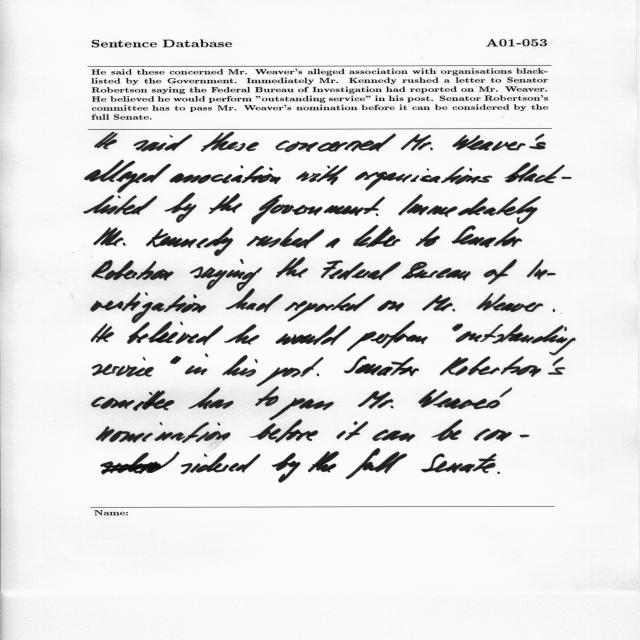word: (398, 194, 541, 224), (251, 195, 385, 225), (456, 324, 576, 356), (269, 391, 391, 421), (91, 292, 206, 323), (355, 166, 492, 191), (378, 388, 513, 410), (85, 160, 171, 193), (96, 422, 231, 443), (284, 293, 375, 322), (440, 356, 565, 377), (146, 227, 233, 256), (347, 321, 428, 351), (190, 259, 262, 291), (127, 321, 223, 345), (275, 134, 396, 153), (169, 165, 281, 184), (249, 257, 308, 292), (257, 357, 324, 387), (346, 449, 407, 480), (101, 452, 179, 475), (181, 453, 261, 475), (92, 390, 175, 411), (92, 260, 174, 281), (249, 419, 318, 443), (247, 228, 325, 249), (321, 261, 401, 281), (453, 134, 546, 151), (276, 325, 351, 346), (452, 226, 522, 248), (344, 356, 419, 376), (422, 453, 497, 473), (84, 195, 157, 215), (505, 163, 572, 184), (402, 262, 471, 281), (477, 293, 543, 312), (92, 357, 154, 377), (201, 132, 259, 152), (226, 293, 283, 313), (354, 225, 401, 248), (134, 134, 193, 152), (296, 165, 348, 185), (188, 387, 234, 409), (165, 193, 197, 223), (483, 259, 517, 285), (272, 453, 301, 483), (222, 355, 258, 377), (224, 324, 260, 345), (474, 429, 529, 442), (209, 193, 243, 214), (432, 419, 463, 441), (308, 451, 339, 473), (527, 259, 556, 280), (94, 227, 126, 246), (337, 422, 369, 441), (422, 295, 455, 312), (373, 429, 416, 442), (401, 134, 433, 151), (416, 226, 440, 247), (185, 354, 208, 375), (255, 387, 279, 407), (91, 323, 114, 343), (95, 132, 118, 149), (377, 300, 404, 312), (325, 238, 340, 248), (452, 323, 463, 332), (170, 356, 181, 364), (376, 213, 378, 216), (553, 309, 555, 312), (317, 373, 319, 376), (497, 472, 500, 474)
